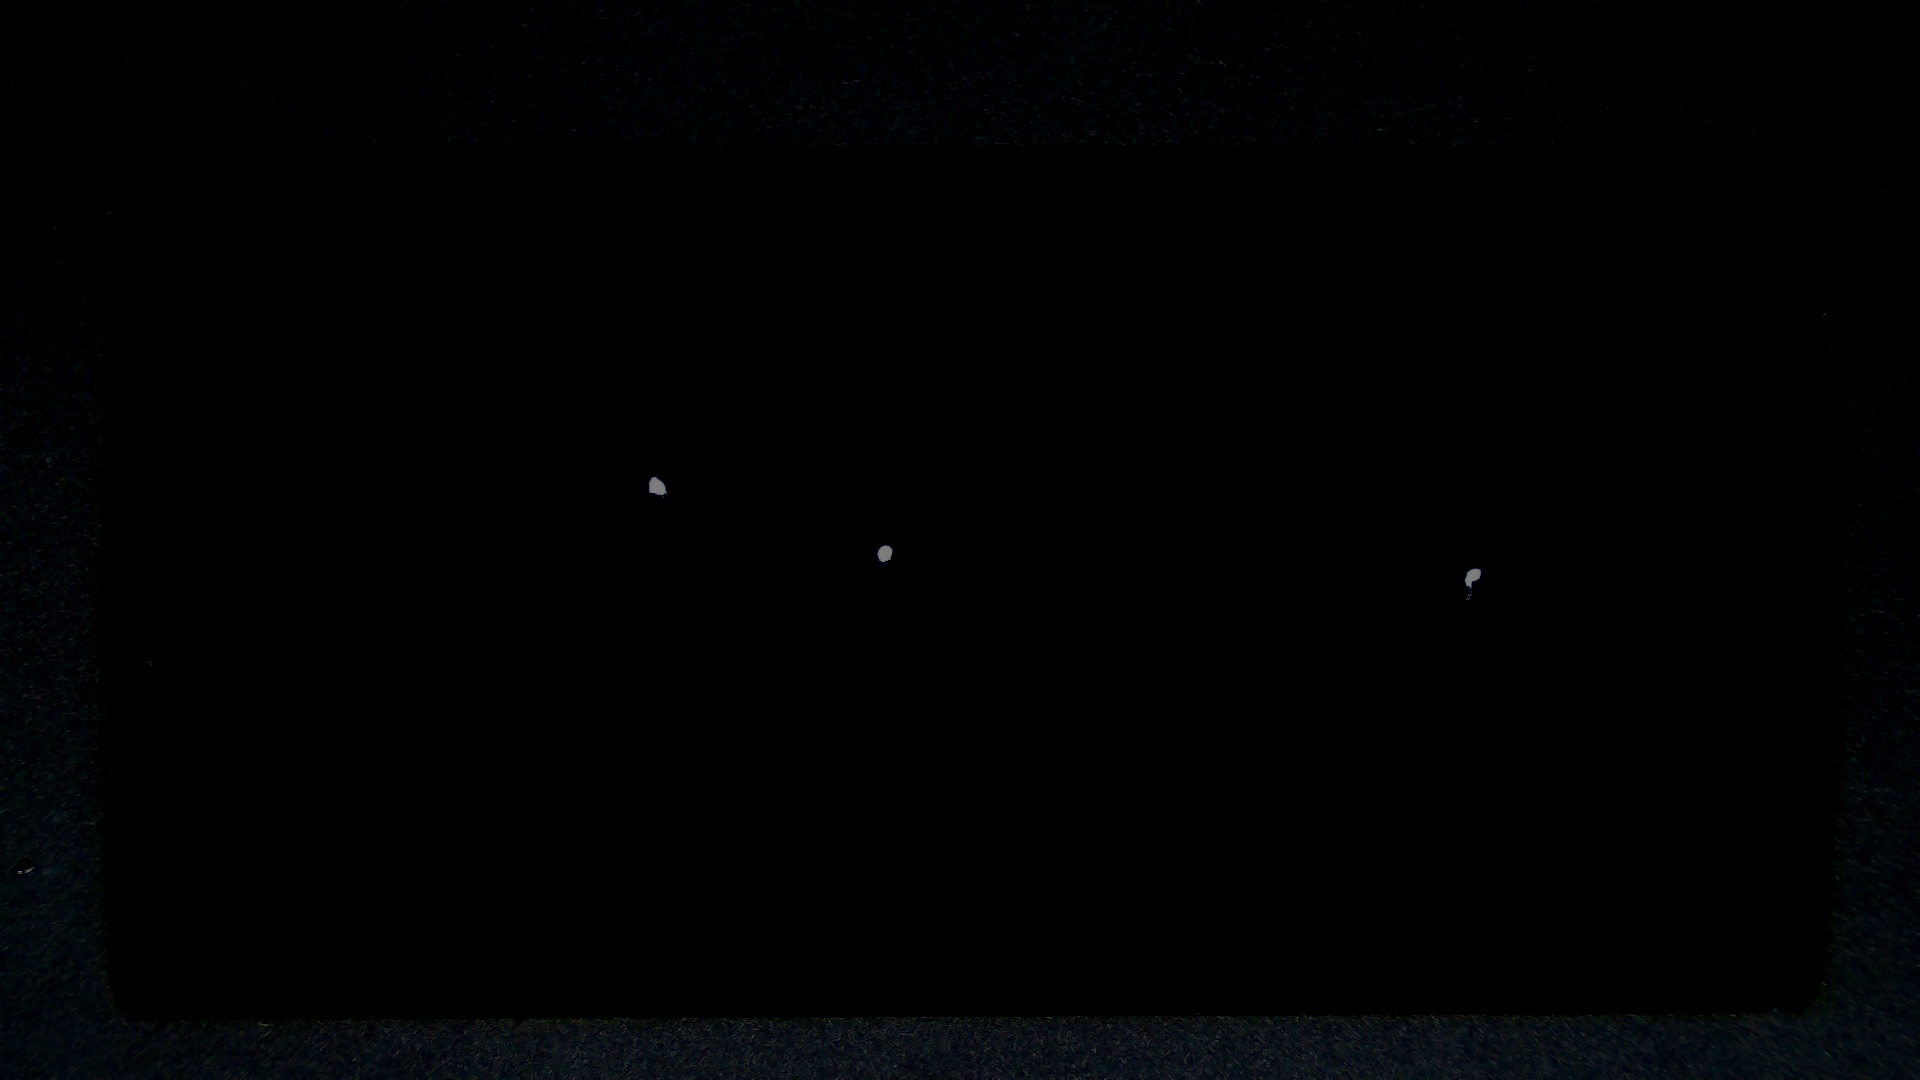oil: (737, 282, 1920, 848), (439, 272, 1319, 816), (324, 237, 975, 713)
